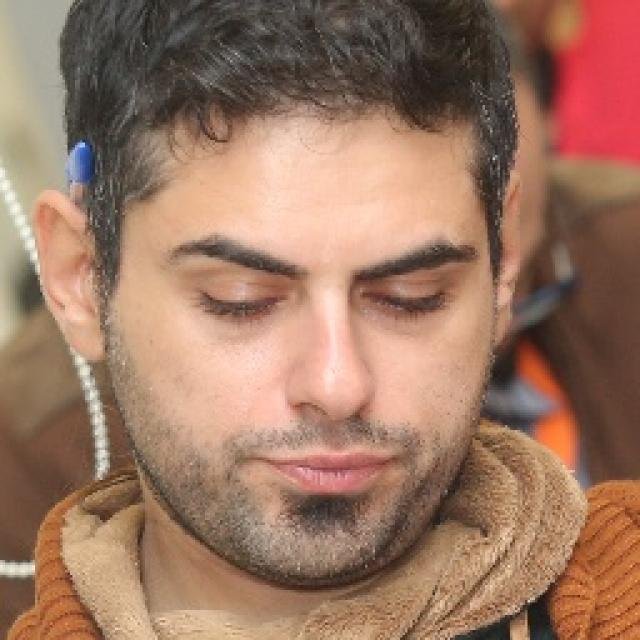earlobe: (70, 329, 107, 364), (494, 317, 511, 349)
eye: (188, 269, 283, 330), (358, 274, 458, 319)
nose: (282, 401, 378, 446)
wholeear: (34, 192, 104, 364), (494, 168, 525, 352)
